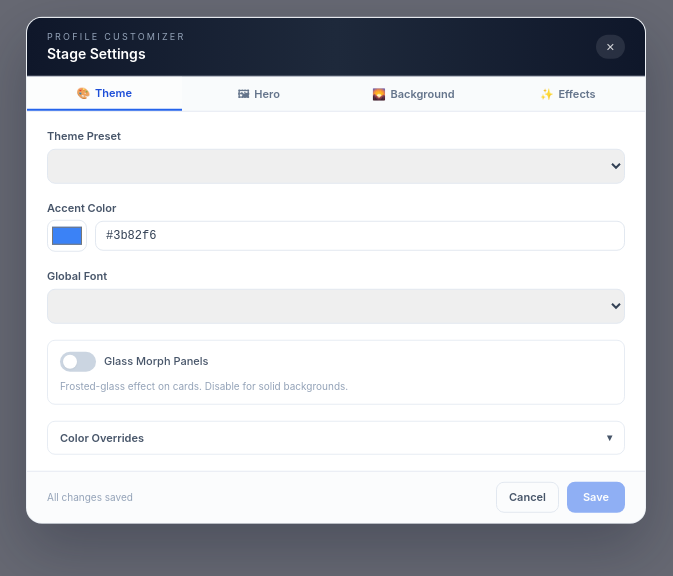
SocialStageSettingsSidebar › shows upload status after successful upload
The image size is (673, 576).
What coordinates should you click on to do the following:
click the button "🌄 Background"
I would click on:
 (413, 94)
Its box is [336, 76, 490, 111].
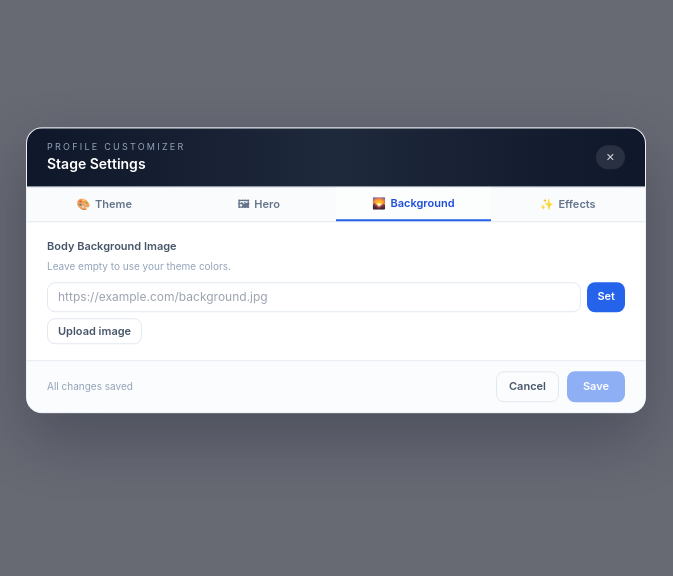
Now the button "Upload image" is enabled, box [47, 318, 142, 344]
